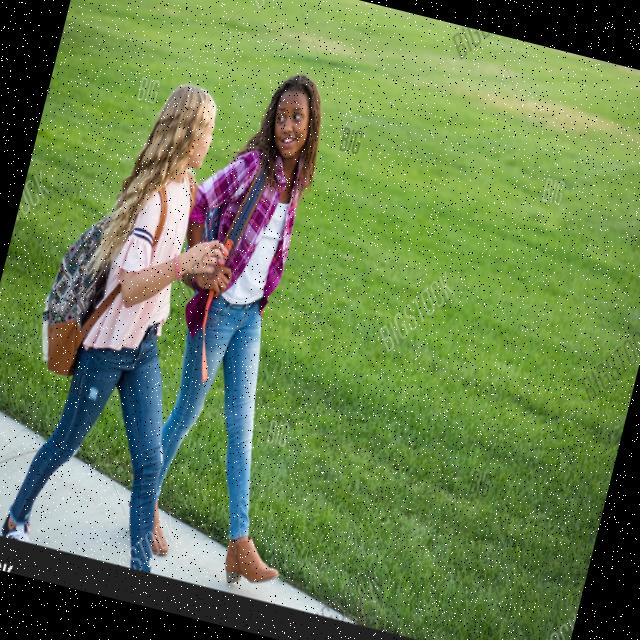Person: (100, 54, 398, 592), (0, 61, 264, 572)
